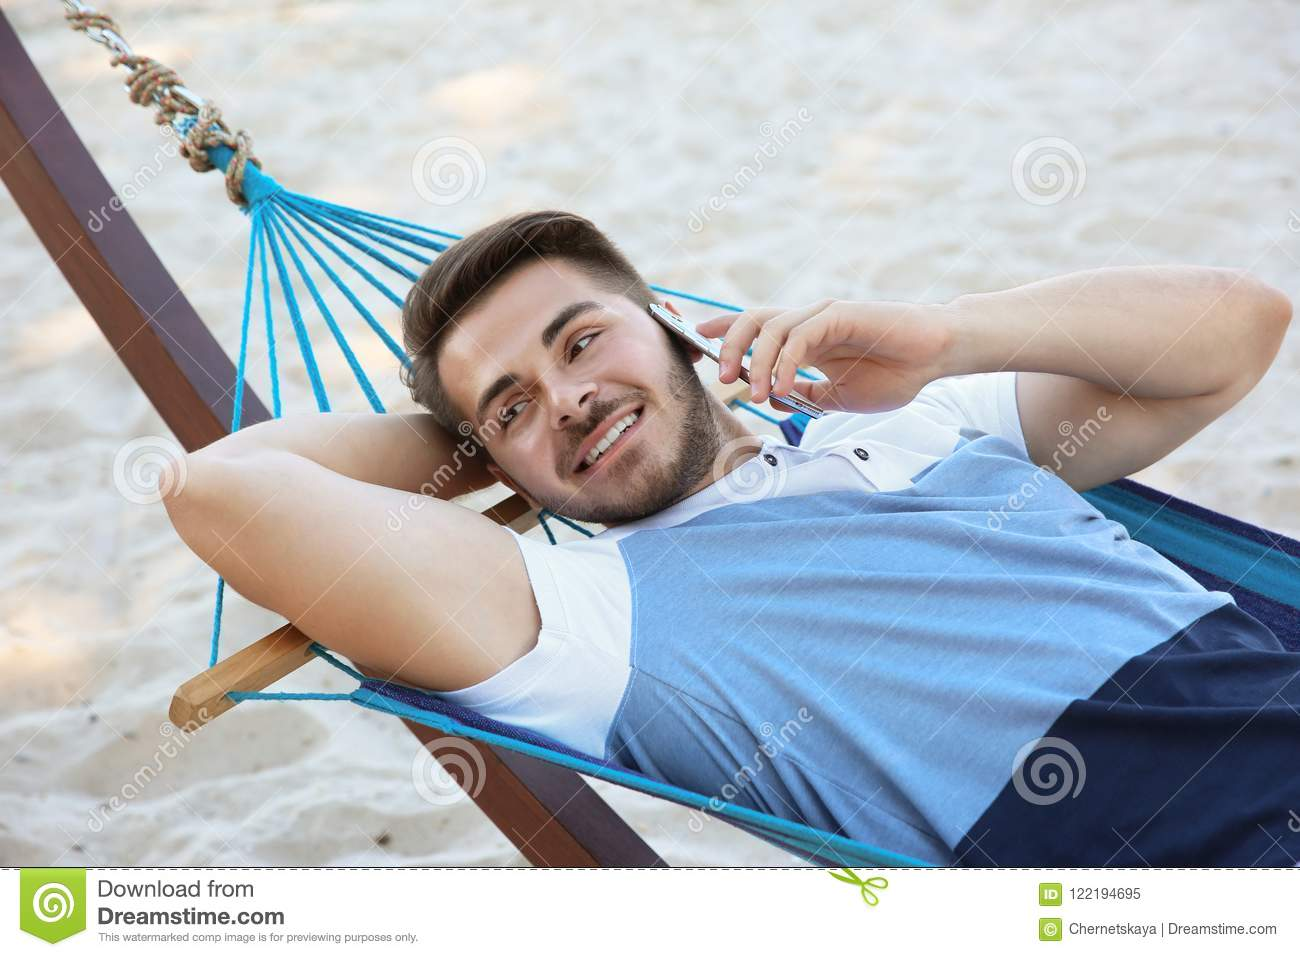phone: (648, 301, 832, 434)
talk: (465, 285, 963, 524)
